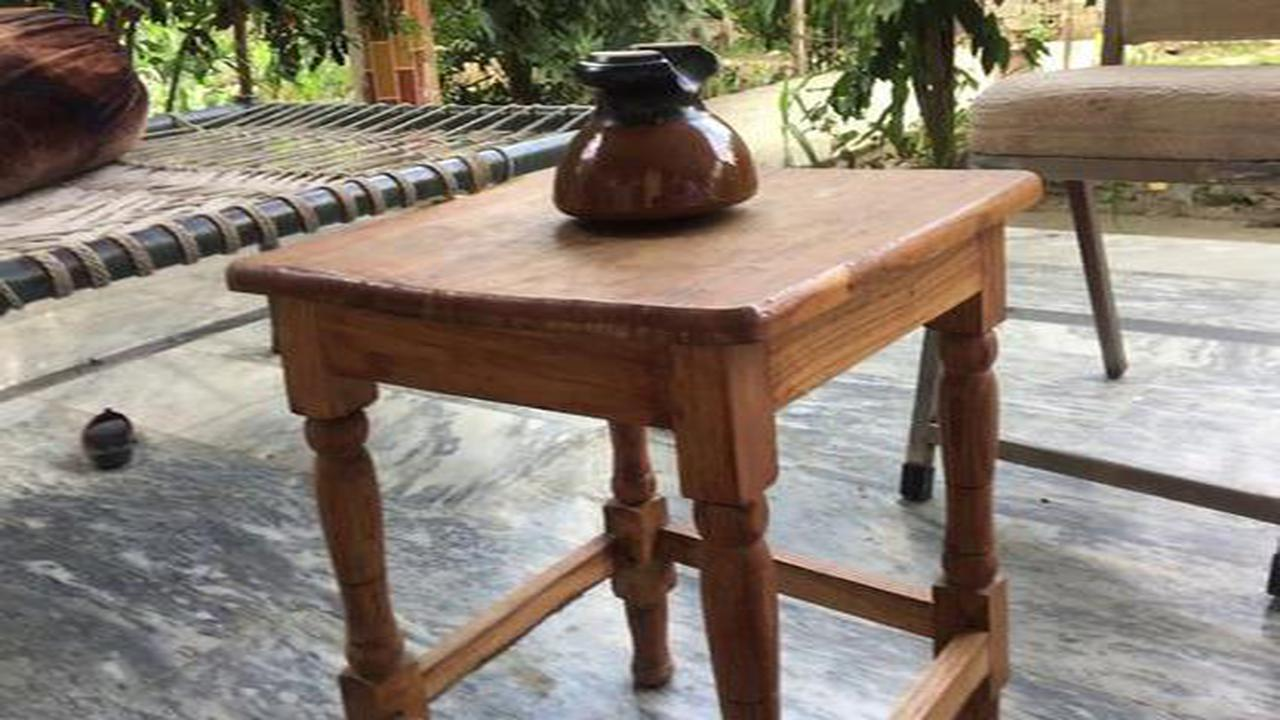insulator_pin: (530, 33, 764, 238)
